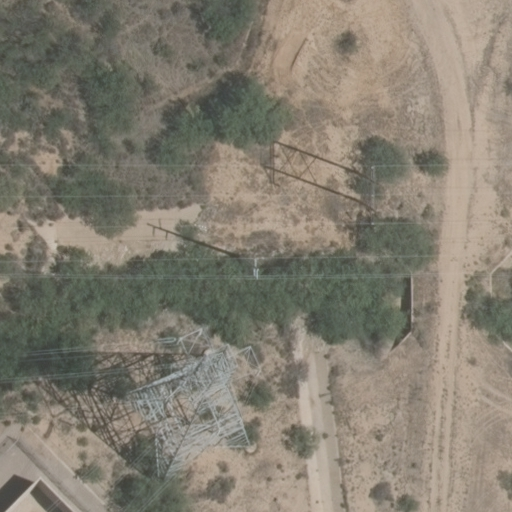TT: (103, 327, 260, 468), (261, 135, 379, 212)
